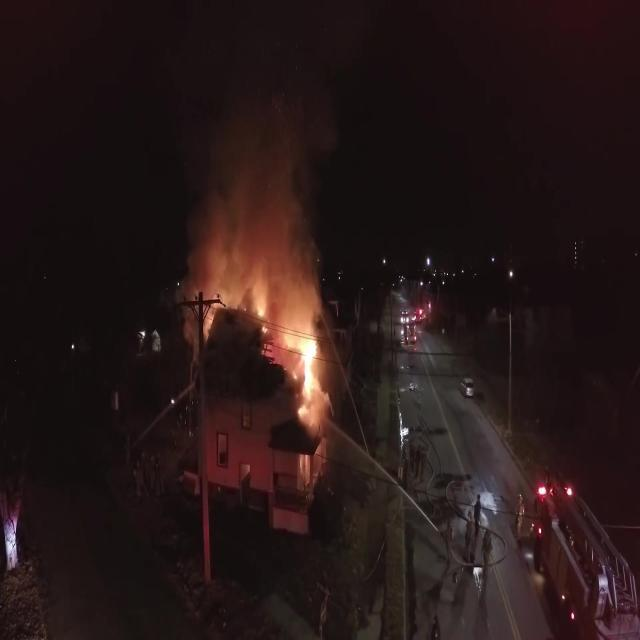Fire: (192, 272, 328, 438)
Smoke: (194, 70, 339, 438)
